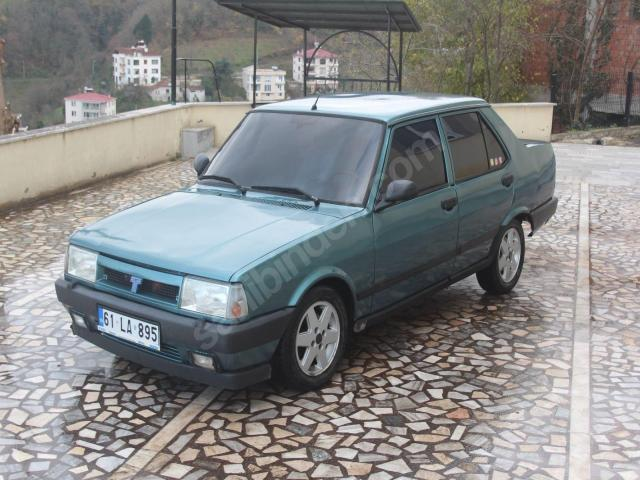plaka: (98, 308, 160, 349)
